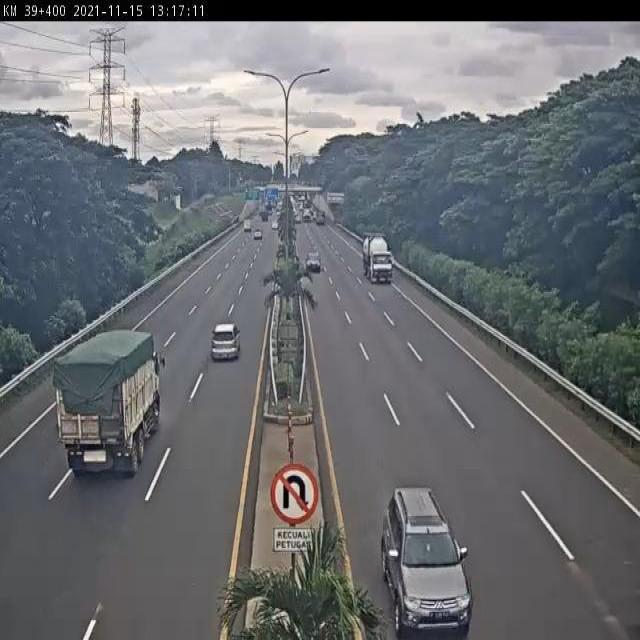car: (379, 484, 474, 640), (208, 321, 244, 364), (304, 249, 325, 275)
truck-l-: (52, 328, 163, 477)
truck-xl-: (361, 230, 395, 286)
